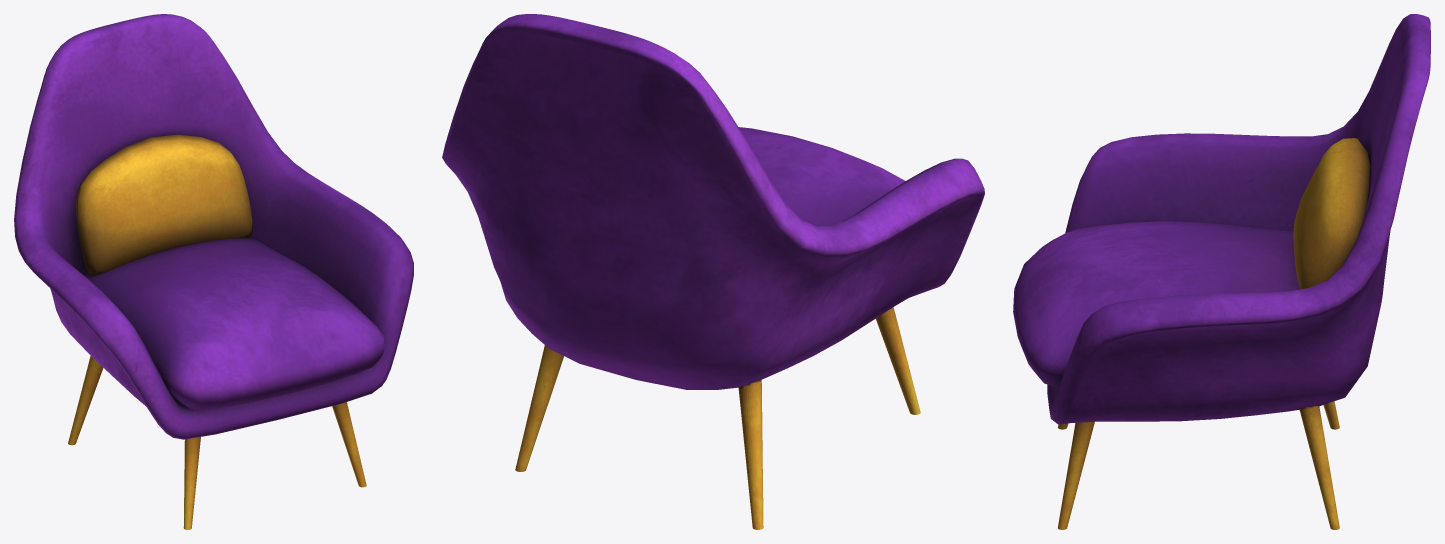
The model's file is Clarinda_Accent.fbx.
3 views of the same model, side by side, from view 1: azimuth 30°, elevation 25°; view 2: azimuth 150°, elevation 25°; view 3: azimuth 270°, elevation 25° (orthographic). The views are drawn at different scales.
Visible parts, largest first — view 1: Clarinda_Accent_Chair.002; view 2: Clarinda_Accent_Chair.002; view 3: Clarinda_Accent_Chair.002.
Boxes of the visible parts, left/top/right/bottom form: Clarinda_Accent_Chair.002: left=14, top=14, right=413, bottom=529; Clarinda_Accent_Chair.002: left=442, top=14, right=984, bottom=529; Clarinda_Accent_Chair.002: left=1013, top=14, right=1430, bottom=529.
Bounding box in the file's own units: 1.07 × 1.19 × 1.03.
